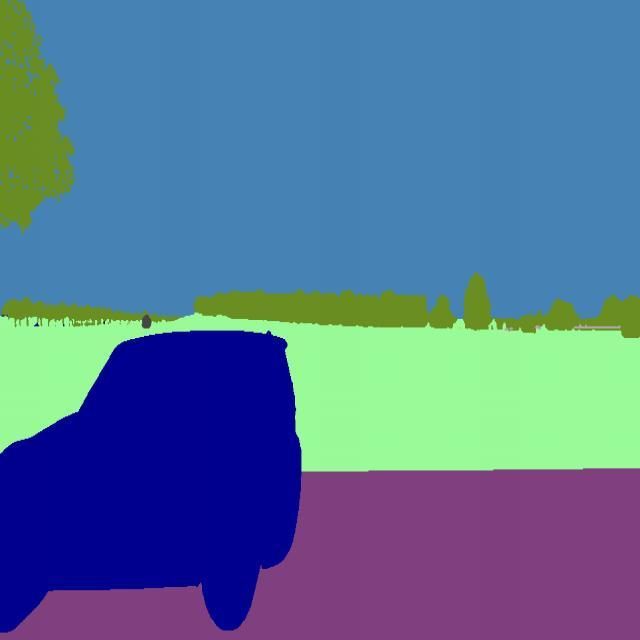unsafe: (0, 315, 304, 640)
